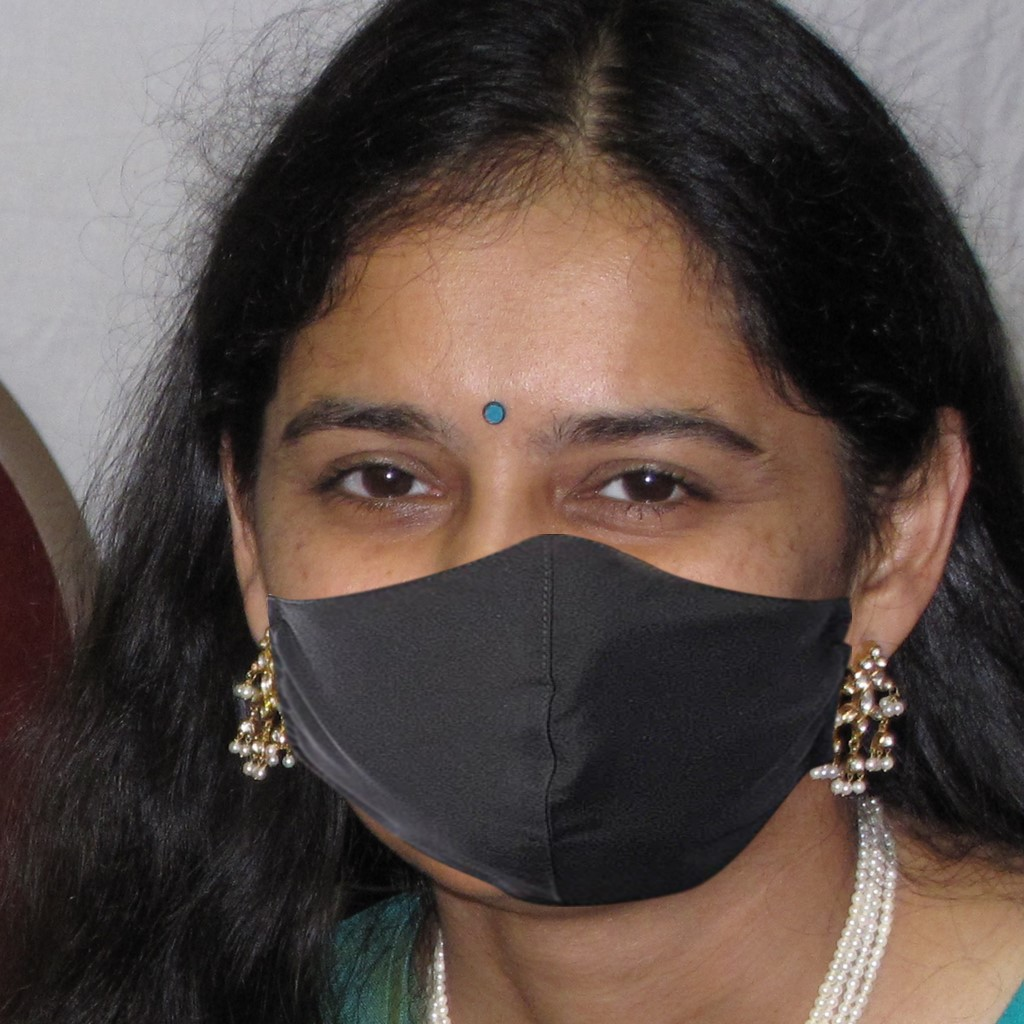con_mascara: (240, 134, 877, 940)
